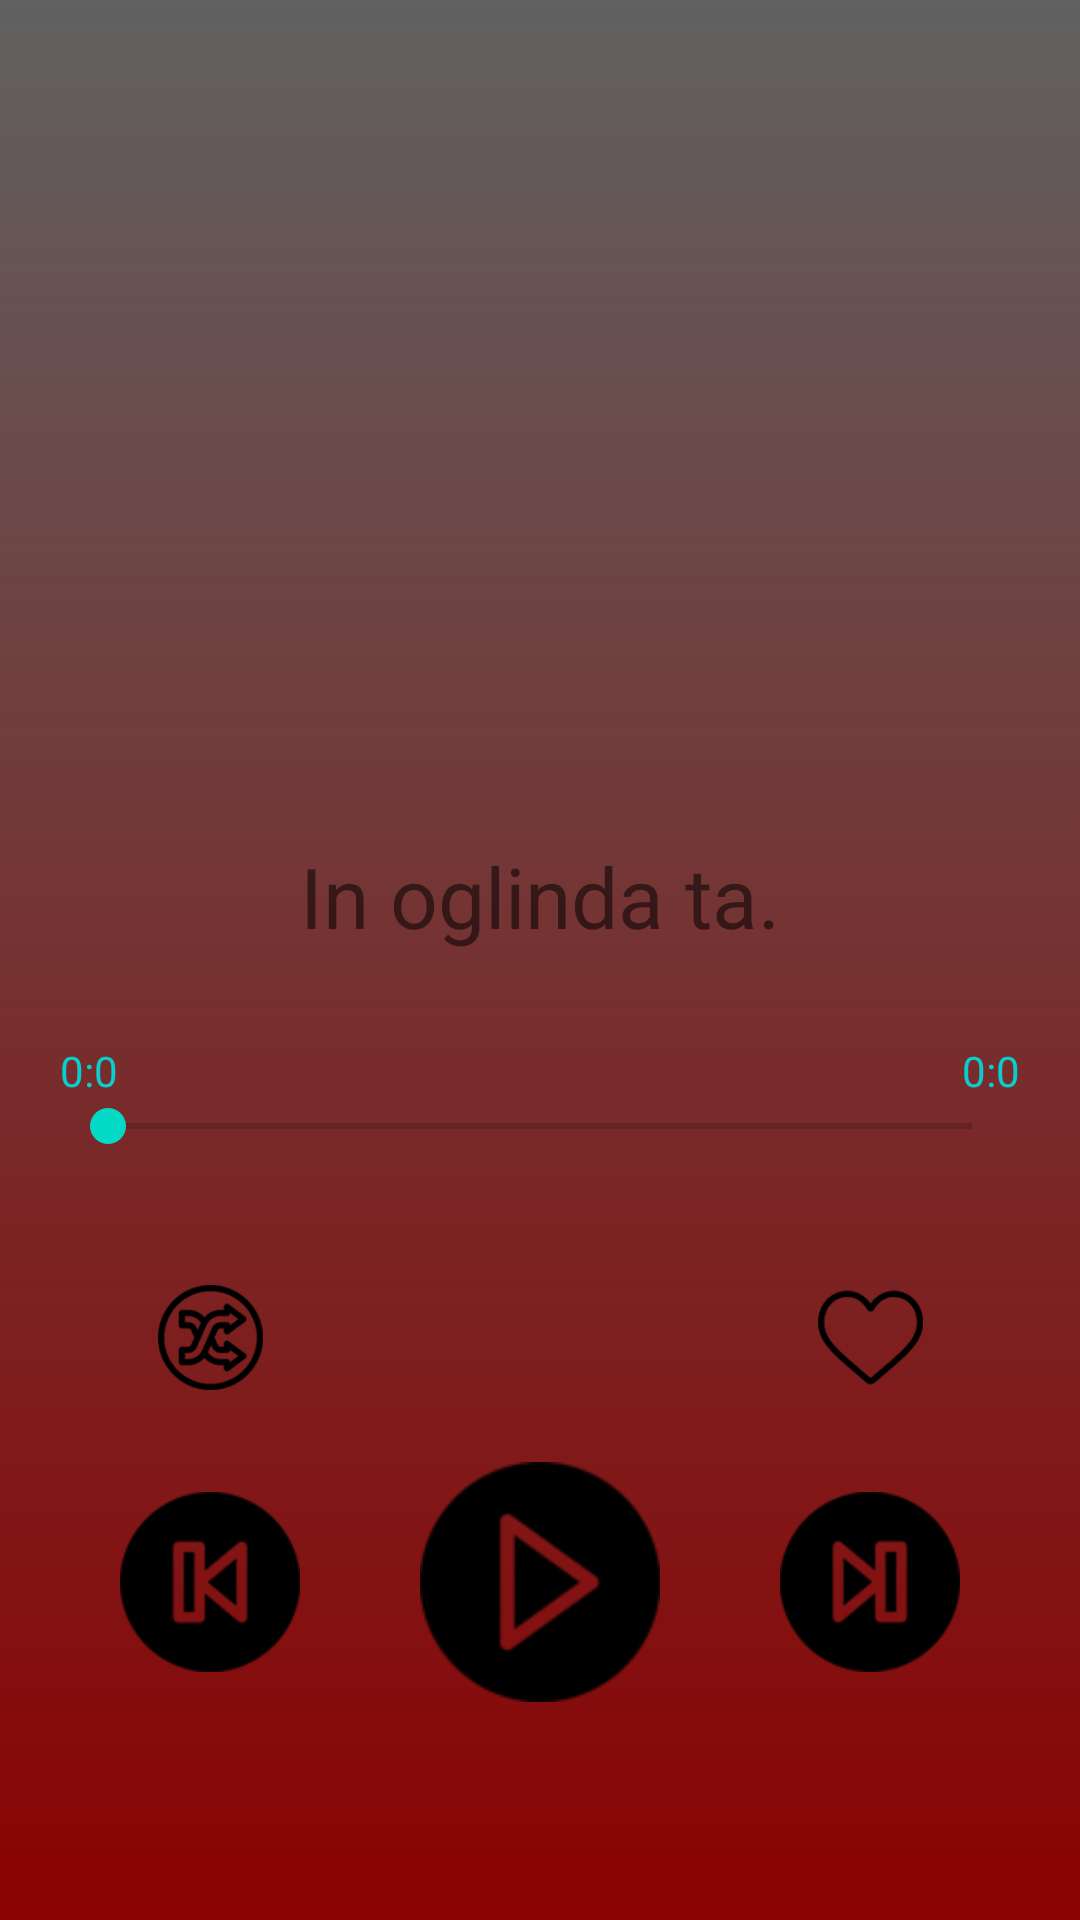

Where to tap for icons on this 1080 × 1920 app screen, as (x,y):
empty heart: (870,1337)
next song: (870,1582)
previous song: (210,1582)
shuffle off: (210,1337)
start song: (540,1582)
